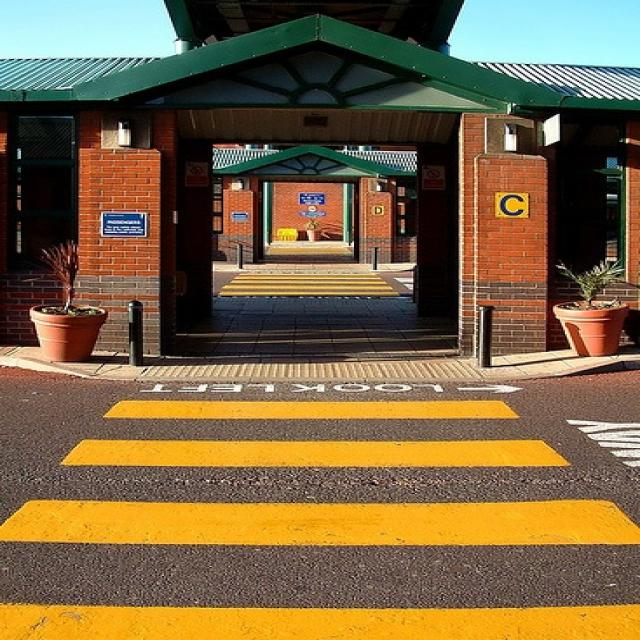pottedplant: (30, 240, 104, 362), (553, 260, 628, 356), (302, 215, 324, 241)
